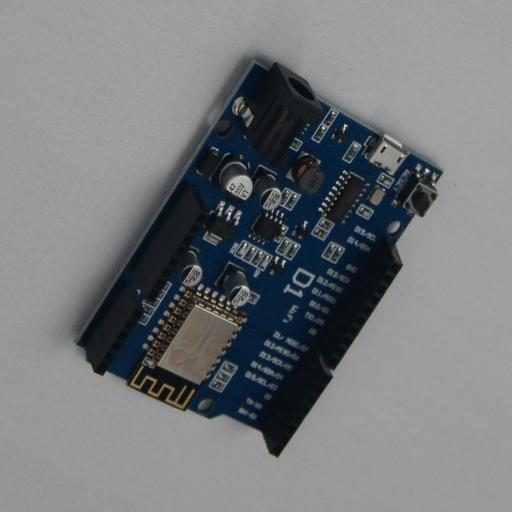Arduino Uno WiFi Shield: (72, 56, 442, 458)
